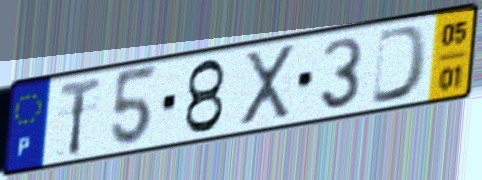3: (317, 35, 365, 111)
5: (107, 63, 161, 152)
8: (183, 56, 228, 136)
D: (368, 22, 431, 108)
T: (57, 73, 104, 160)
X: (239, 42, 297, 130)
